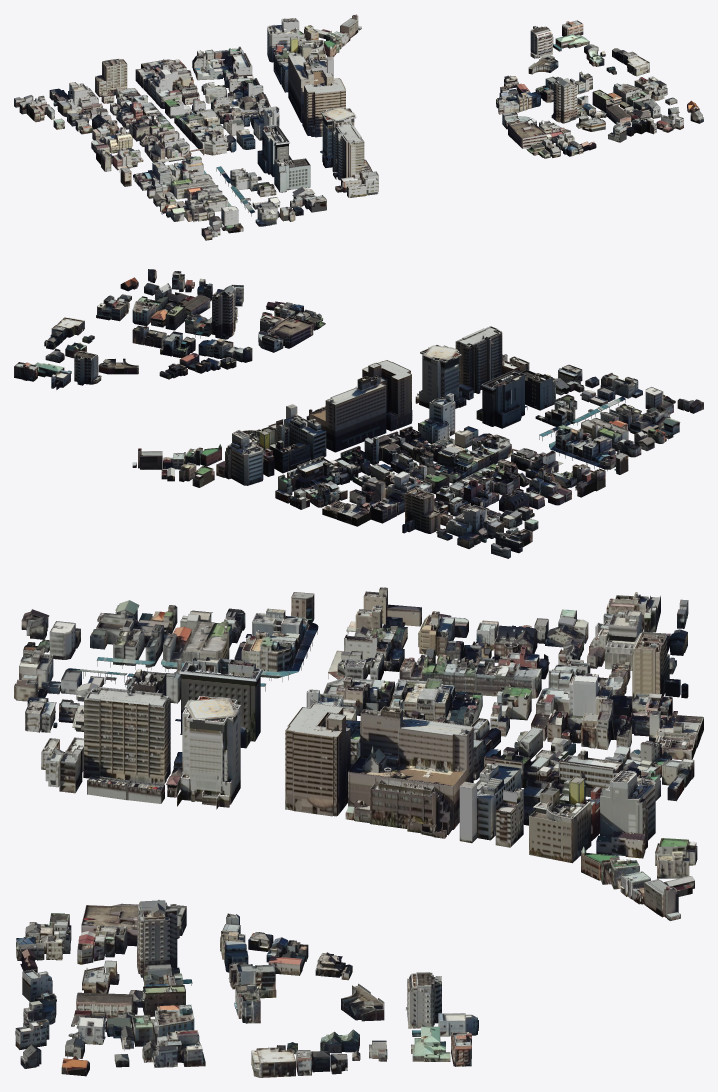
Rendered from station-5-1-packed.glb.
3 renders of one model, top to bottom at view 1: azimuth 30°, elevation 25°; view 2: azimuth 150°, elevation 25°; view 3: azimuth 270°, elevation 25°, orthographic. The views are drawn at different scales.
Size of the model in its own units: 555 by 56.49 by 353.
21 materials, 20 textured.
